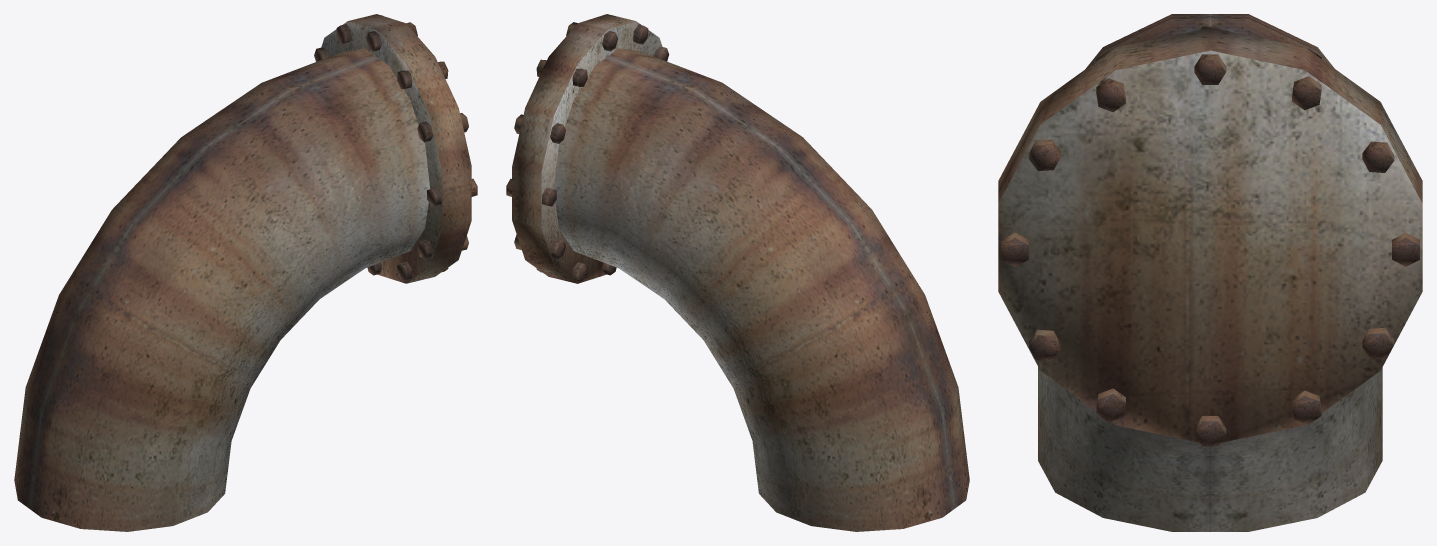
File: pipe_8.obj
The picture shows the model from 3 angles, left to right: view 1: azimuth 30°, elevation 25°; view 2: azimuth 150°, elevation 25°; view 3: azimuth 270°, elevation 25°; orthographic projection. The views are drawn at different scales.
Parts seen in each view (by area): view 1: pipe_8.obj; view 2: pipe_8.obj; view 3: pipe_8.obj.
Boxes of the visible parts, left/top/right/bottom form: pipe_8.obj: left=14, top=14, right=477, bottom=531; pipe_8.obj: left=506, top=14, right=969, bottom=531; pipe_8.obj: left=998, top=14, right=1422, bottom=531.
Bounding box in the file's own units: 2.05 × 2.01 × 1.22.
Materials: 1 (1 with a texture image).
